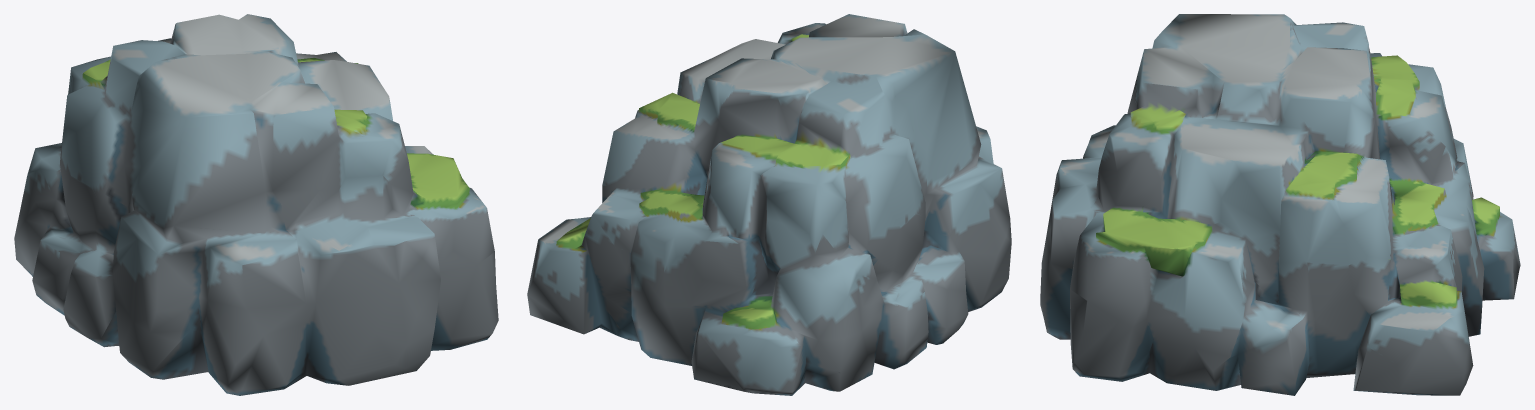
Rendered from cliff.glb.
3 views of the same model, side by side, from view 1: azimuth 30°, elevation 25°; view 2: azimuth 150°, elevation 25°; view 3: azimuth 270°, elevation 25° (orthographic). The views are drawn at different scales.
Visible parts, largest first — view 1: tripo_node_a8d1ea23-68ad-4438-a6bf-fe5f6c007f82; view 2: tripo_node_a8d1ea23-68ad-4438-a6bf-fe5f6c007f82; view 3: tripo_node_a8d1ea23-68ad-4438-a6bf-fe5f6c007f82.
Boxes of the visible parts, x1=… form: tripo_node_a8d1ea23-68ad-4438-a6bf-fe5f6c007f82: x1=14, y1=14, x2=498, y2=395; tripo_node_a8d1ea23-68ad-4438-a6bf-fe5f6c007f82: x1=527, y1=14, x2=1011, y2=395; tripo_node_a8d1ea23-68ad-4438-a6bf-fe5f6c007f82: x1=1040, y1=14, x2=1520, y2=395.
Bounding box in the file's own units: 0.856 × 0.5815 × 1.
Materials: 1 (1 with a texture image).
